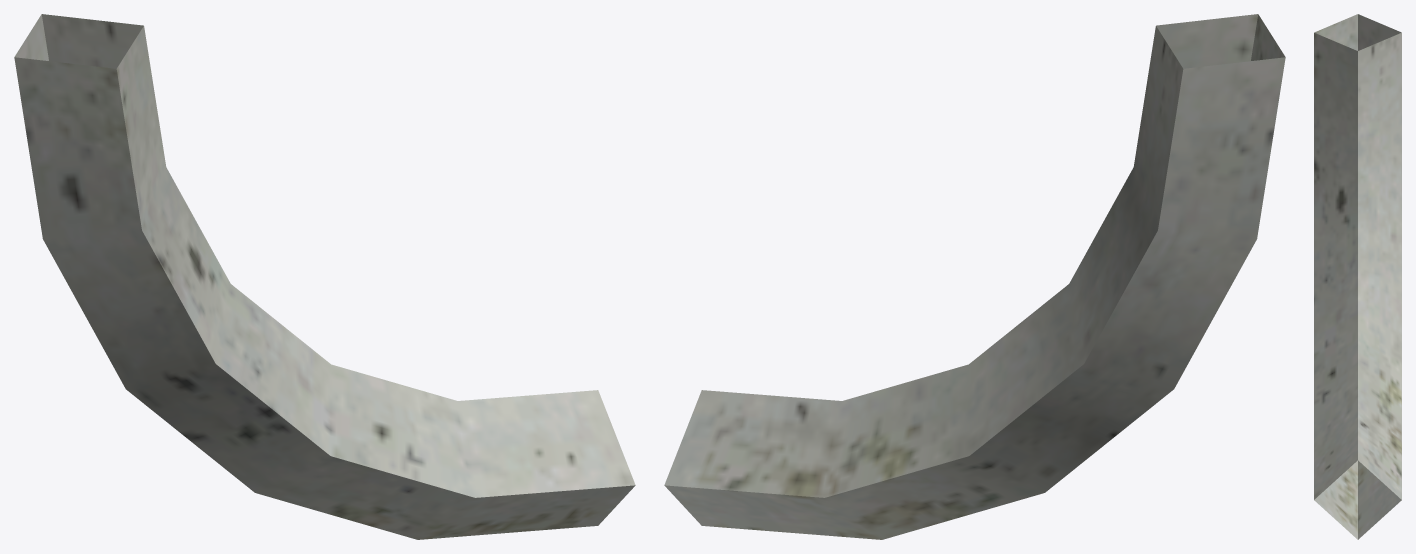
Rendered from p6_garage_pipes_90deg03_LOD1.obj.
The picture shows the model from 3 angles, left to right: view 1: azimuth 30°, elevation 25°; view 2: azimuth 150°, elevation 25°; view 3: azimuth 270°, elevation 25°; orthographic projection. The views are drawn at different scales.
Visible parts, largest first — view 1: mtl_p6_pipes_garage; view 2: mtl_p6_pipes_garage; view 3: mtl_p6_pipes_garage.
Boxes of the visible parts, x1=… form: mtl_p6_pipes_garage: x1=14, y1=14, x2=635, y2=539; mtl_p6_pipes_garage: x1=664, y1=14, x2=1285, y2=539; mtl_p6_pipes_garage: x1=1314, y1=14, x2=1401, y2=539.
Size of the model in its own units: 22.86 by 22.86 by 5.08.
